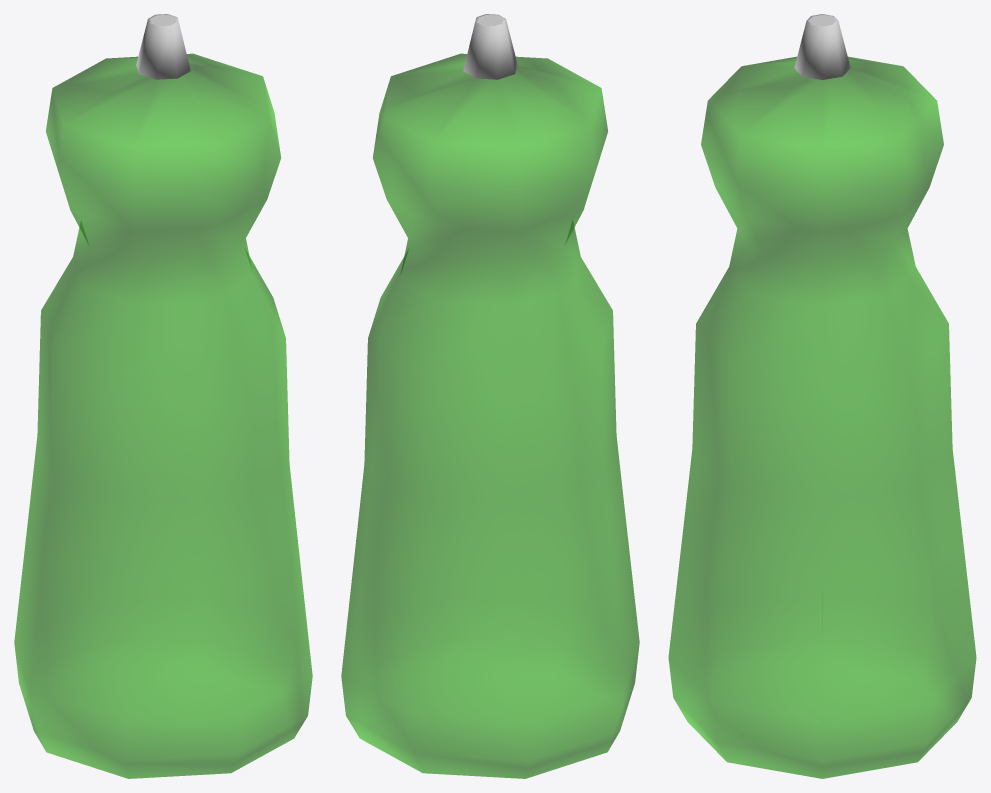
File: dishSoap.fbx
The picture shows the model from 3 angles, left to right: view 1: azimuth 30°, elevation 25°; view 2: azimuth 150°, elevation 25°; view 3: azimuth 270°, elevation 25°; orthographic projection.
Parts seen in each view (by area): view 1: Cylinder.011; view 2: Cylinder.011; view 3: Cylinder.011.
Part boxes in pixels (x1,y1,x2,y2): Cylinder.011: (14, 14, 312, 778); Cylinder.011: (341, 14, 639, 778); Cylinder.011: (668, 14, 976, 778).
Bounding box in the file's own units: 278 × 698 × 278.
